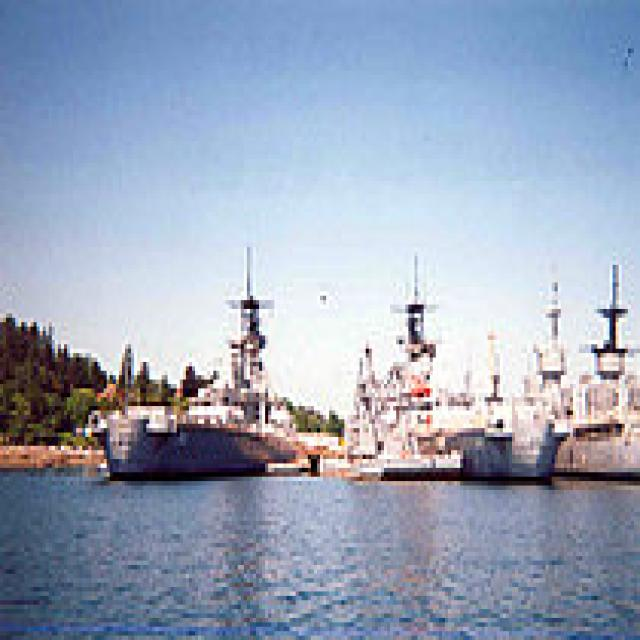boat: (355, 290, 546, 486), (115, 288, 308, 481), (553, 275, 640, 509)
